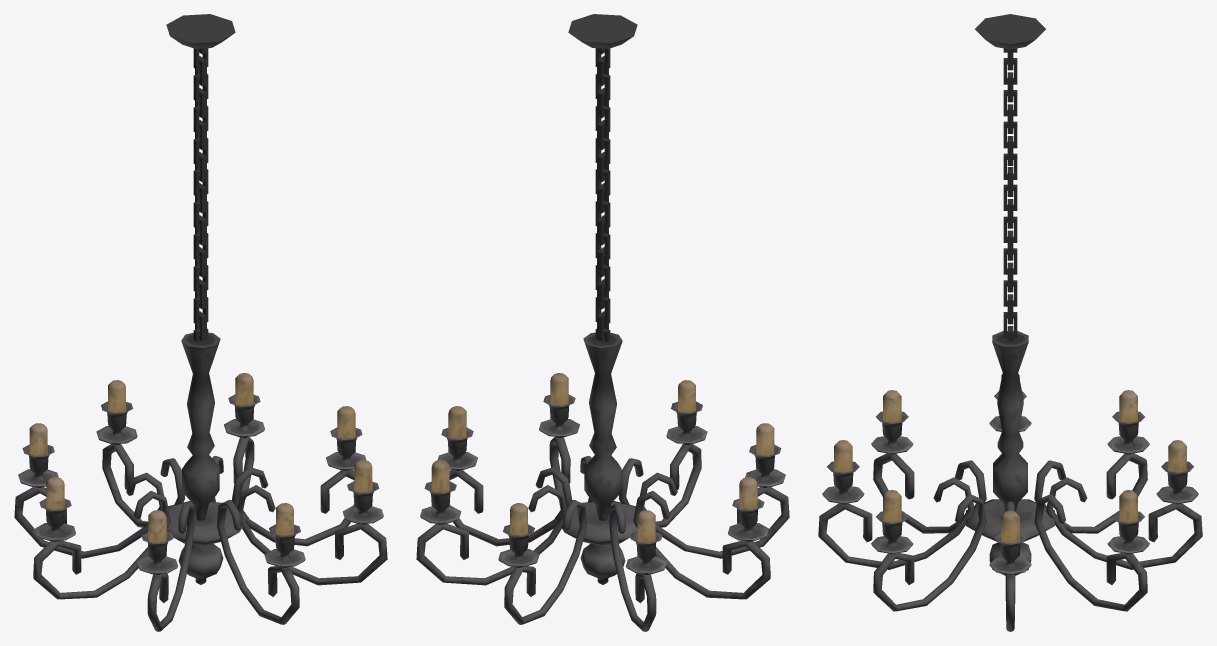
The model's file is chandelier.fbx.
3 renders of one model, left to right at view 1: azimuth 30°, elevation 25°; view 2: azimuth 150°, elevation 25°; view 3: azimuth 270°, elevation 25°, orthographic.
Parts seen in each view (by area): view 1: люстра длинная; view 2: люстра длинная; view 3: люстра длинная.
Boxes of the visible parts, box(x1,y1,x2,y2) form: люстра длинная: box(14, 14, 387, 631); люстра длинная: box(416, 14, 789, 631); люстра длинная: box(818, 14, 1202, 631).
Bounding box in the file's own units: 58.55 × 93.08 × 58.55.
1 material, 1 textured.
